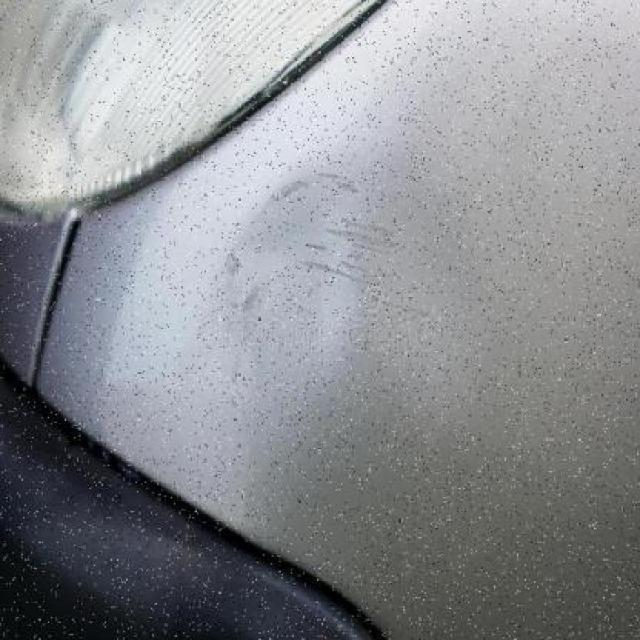fender-dent: (43, 5, 639, 601)
